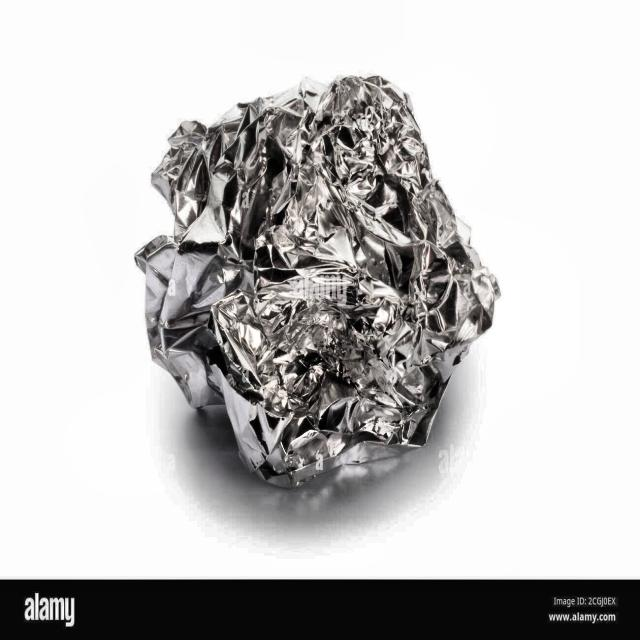Foil: (115, 54, 507, 500)
